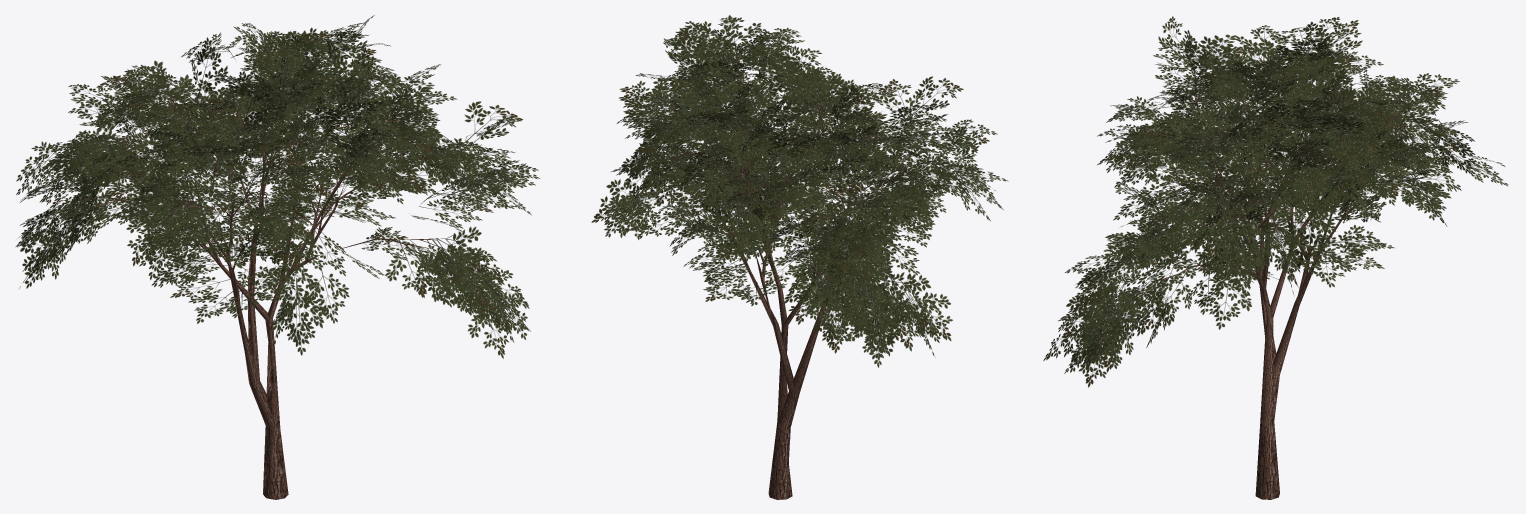
Rendered from treeV1.glb.
The picture shows the model from 3 angles, left to right: view 1: azimuth 30°, elevation 25°; view 2: azimuth 150°, elevation 25°; view 3: azimuth 270°, elevation 25°; orthographic projection. The views are drawn at different scales.
Visible parts, largest first — view 1: polySurface1_DB2X2_L02_0, polySurface1_Trank_bark1_0; view 2: polySurface1_DB2X2_L02_0, polySurface1_Trank_bark1_0; view 3: polySurface1_DB2X2_L02_0, polySurface1_Trank_bark1_0.
Boxes of the visible parts, left/top/right/bottom form: polySurface1_DB2X2_L02_0: left=15, top=15, right=539, bottom=358; polySurface1_Trank_bark1_0: left=43, top=36, right=496, bottom=499; polySurface1_DB2X2_L02_0: left=591, top=15, right=1008, bottom=367; polySurface1_Trank_bark1_0: left=644, top=46, right=969, bottom=499; polySurface1_DB2X2_L02_0: left=1043, top=16, right=1508, bottom=387; polySurface1_Trank_bark1_0: left=1085, top=50, right=1453, bottom=499.
Bounding box in the file's own units: 0.00363 × 0.00382 × 0.00355.
Materials: 2 (2 with a texture image).
